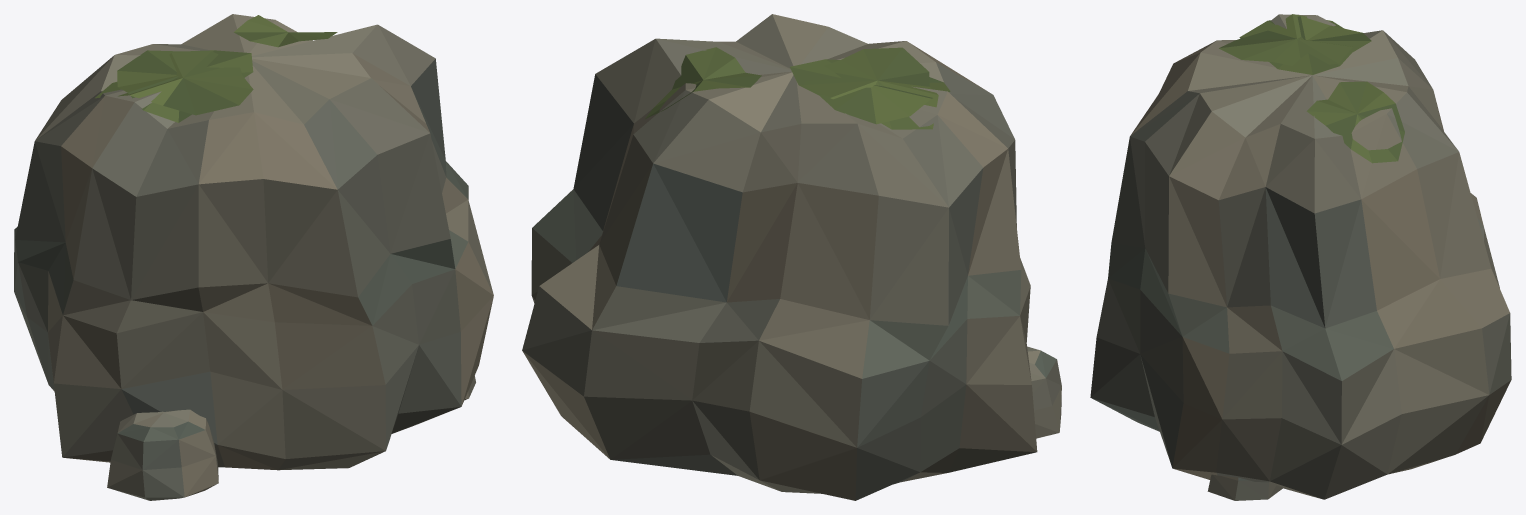
File: valley-boulder.glb
3 views of the same model, side by side, from view 1: azimuth 30°, elevation 25°; view 2: azimuth 150°, elevation 25°; view 3: azimuth 270°, elevation 25° (orthographic). The views are drawn at different scales.
Visible parts, largest first — view 1: weathered-stone-and-moss; view 2: weathered-stone-and-moss; view 3: weathered-stone-and-moss.
Boxes of the visible parts, left/top/right/bottom form: weathered-stone-and-moss: left=14, top=14, right=493, bottom=500; weathered-stone-and-moss: left=522, top=14, right=1061, bottom=500; weathered-stone-and-moss: left=1090, top=14, right=1511, bottom=500.
Size of the model in its own units: 1.2 by 0.9 by 1.
